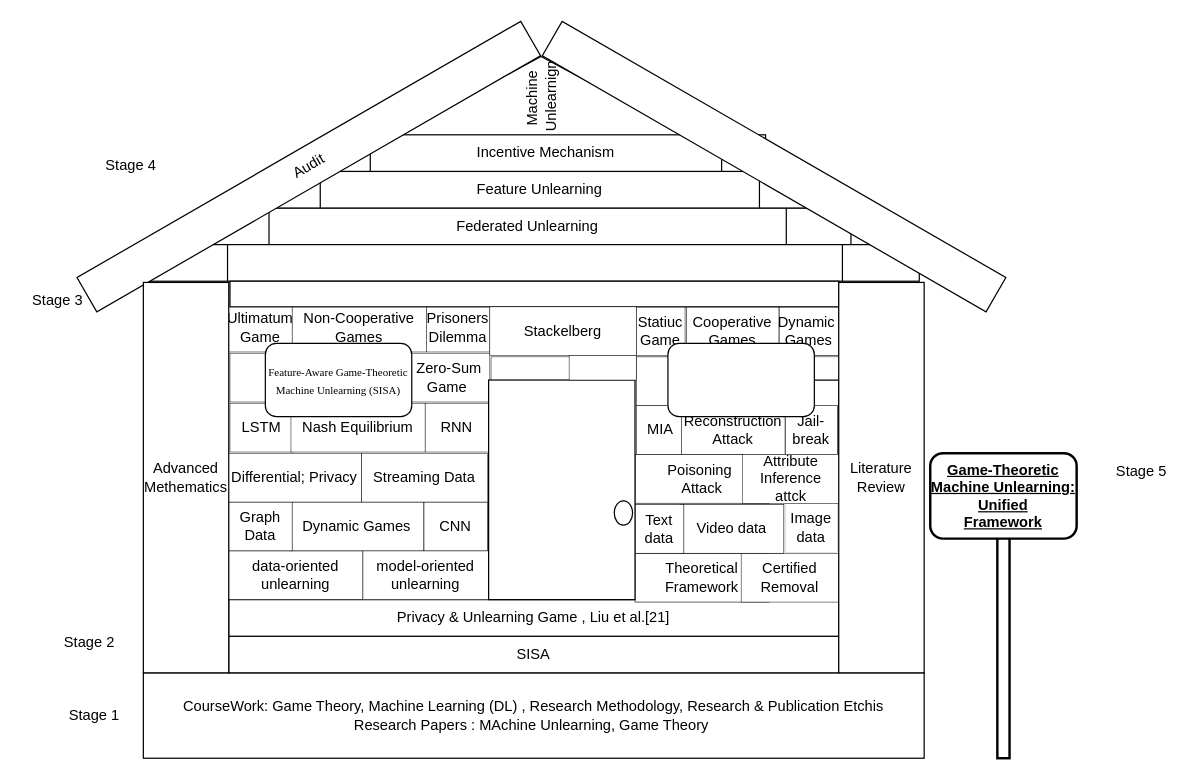
Image size: 1200x781. Some labels were removed from this diagram. Each missing label, with the centre of its shape:
"Cournot" belongs at (x=530, y=368).
"Game-Theoretic Machine Unlearning : Beyond Membership Inference" belongs at (x=740, y=379).
"LLM Unlearning" belongs at (x=534, y=262).
"Perfect Game" belongs at (x=602, y=367).
"Performance" belongs at (x=773, y=166).
"Responsible AI : Privacy, Security, Transparency, Fairness" belongs at (x=534, y=293).
